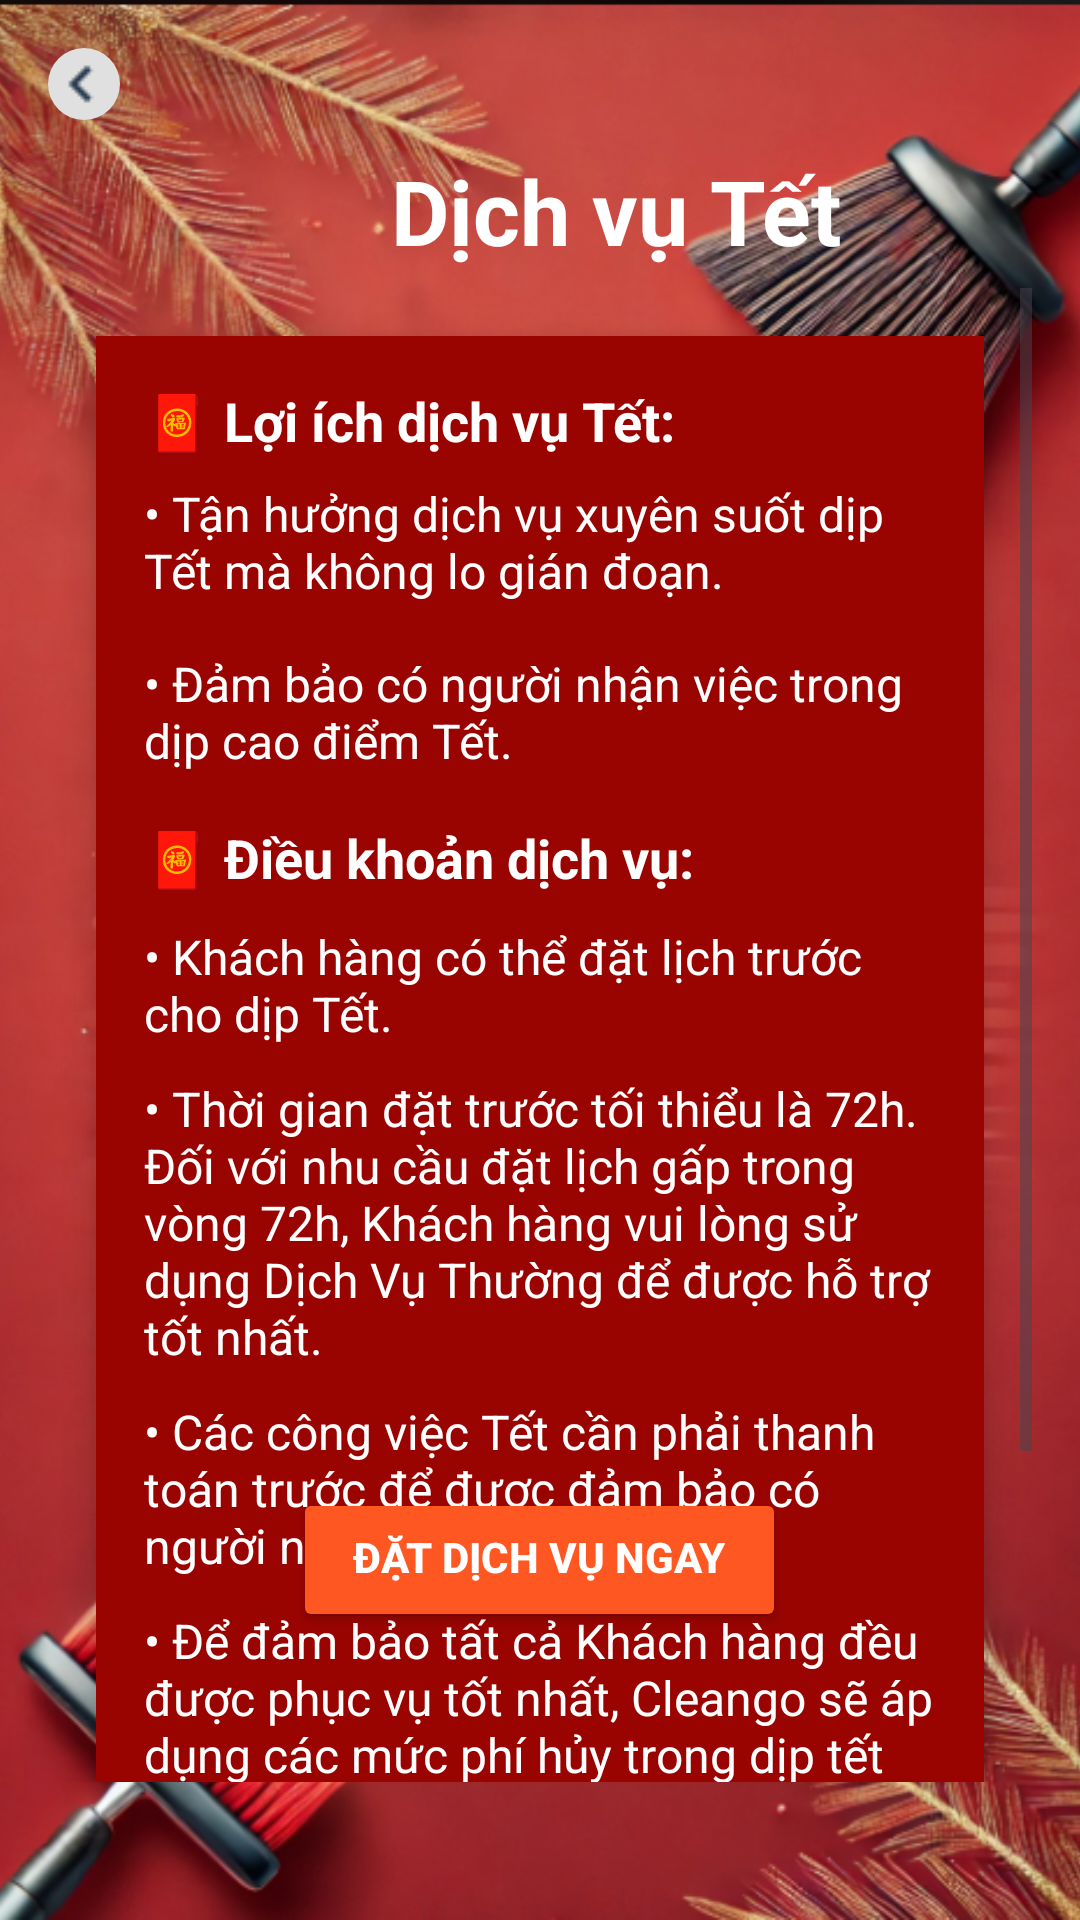

Point at icon controls on the screen. Image size 1080x1920, points as point (x, y).
Quay lại: point (84, 84)
